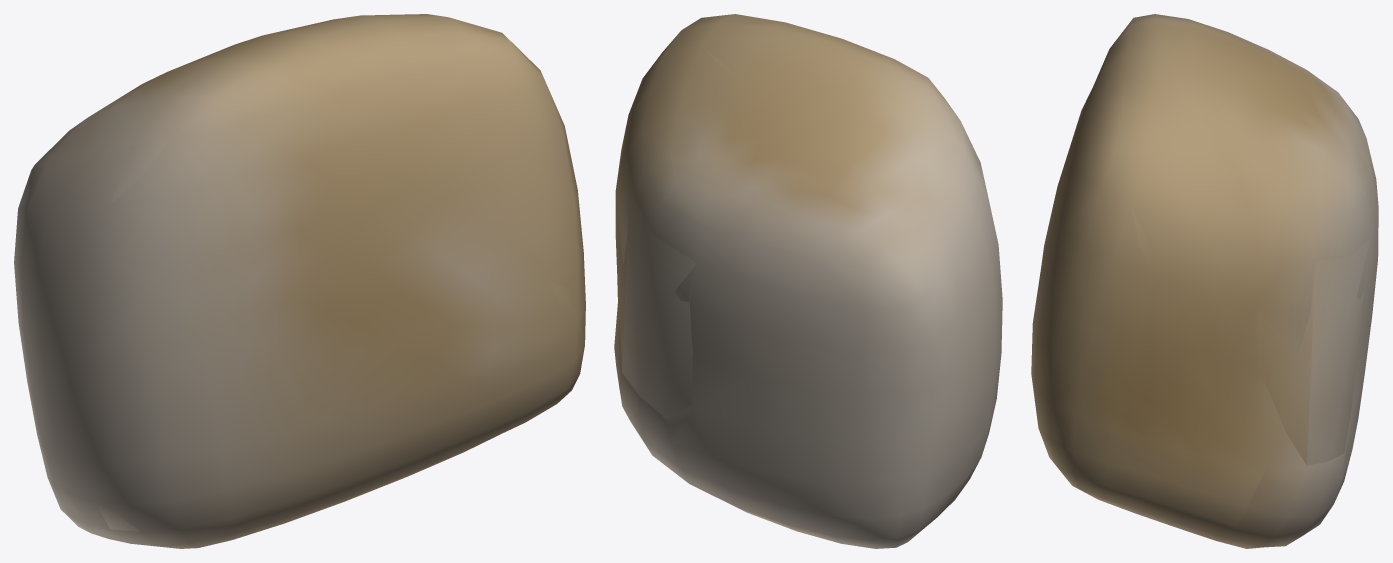
File: L tarsi secundum.fbx
3 views of the same model, side by side, from view 1: azimuth 30°, elevation 25°; view 2: azimuth 150°, elevation 25°; view 3: azimuth 270°, elevation 25° (orthographic). The views are drawn at different scales.
Parts seen in each view (by area): view 1: L tarsi secundum, L tarsi secundum low; view 2: L tarsi secundum, L tarsi secundum low; view 3: L tarsi secundum, L tarsi secundum low.
Part boxes in pixels (bbox=[...]): L tarsi secundum: bbox=[14, 14, 585, 548]; L tarsi secundum low: bbox=[95, 140, 584, 531]; L tarsi secundum: bbox=[614, 14, 1002, 548]; L tarsi secundum low: bbox=[615, 46, 985, 418]; L tarsi secundum: bbox=[1031, 14, 1378, 548]; L tarsi secundum low: bbox=[1038, 96, 1370, 465].
Size of the model in its own units: 0.9428 by 0.9997 by 0.6566.
